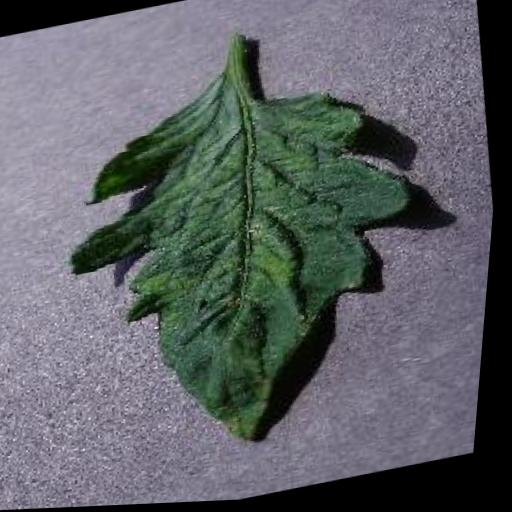Mosaic Virus: (34, 40, 461, 487)
